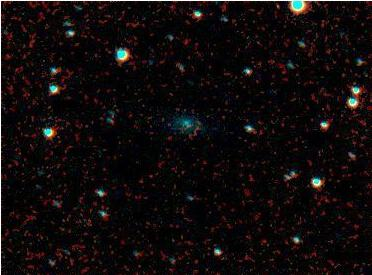star: (265, 0, 295, 22)
